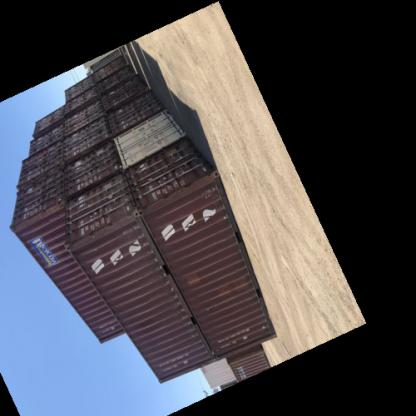Damage: (148, 184, 190, 216)
